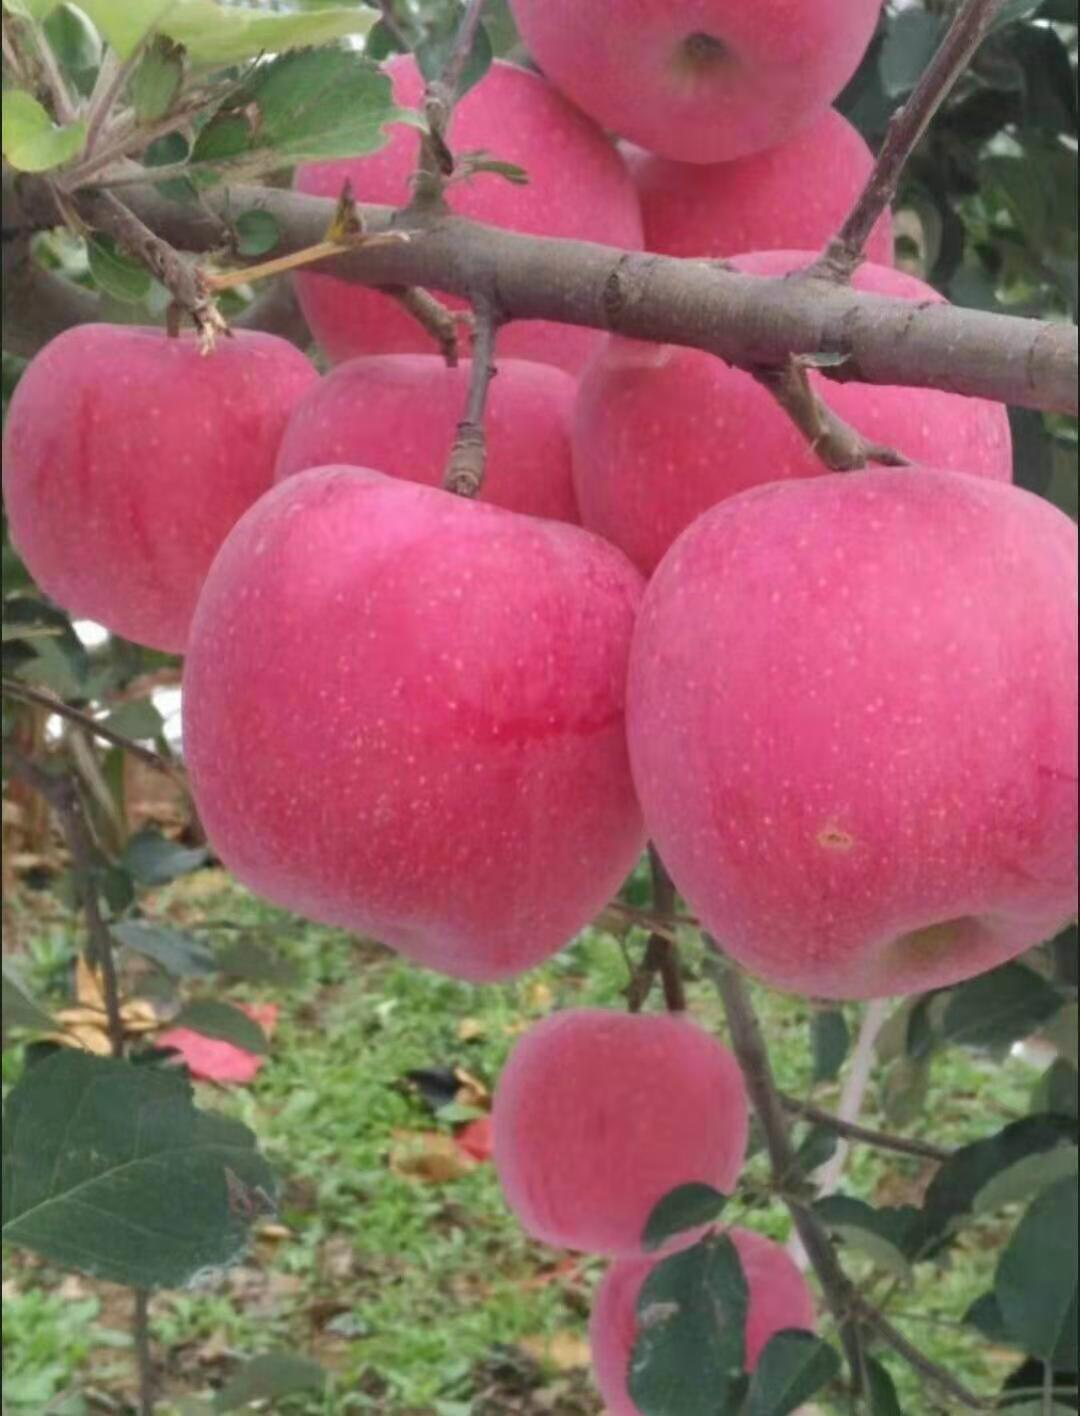apple: (628, 471, 1080, 1015), (185, 469, 652, 987), (569, 247, 1016, 568), (288, 47, 643, 359), (3, 323, 324, 659), (488, 1012, 750, 1259), (511, 6, 885, 169)
